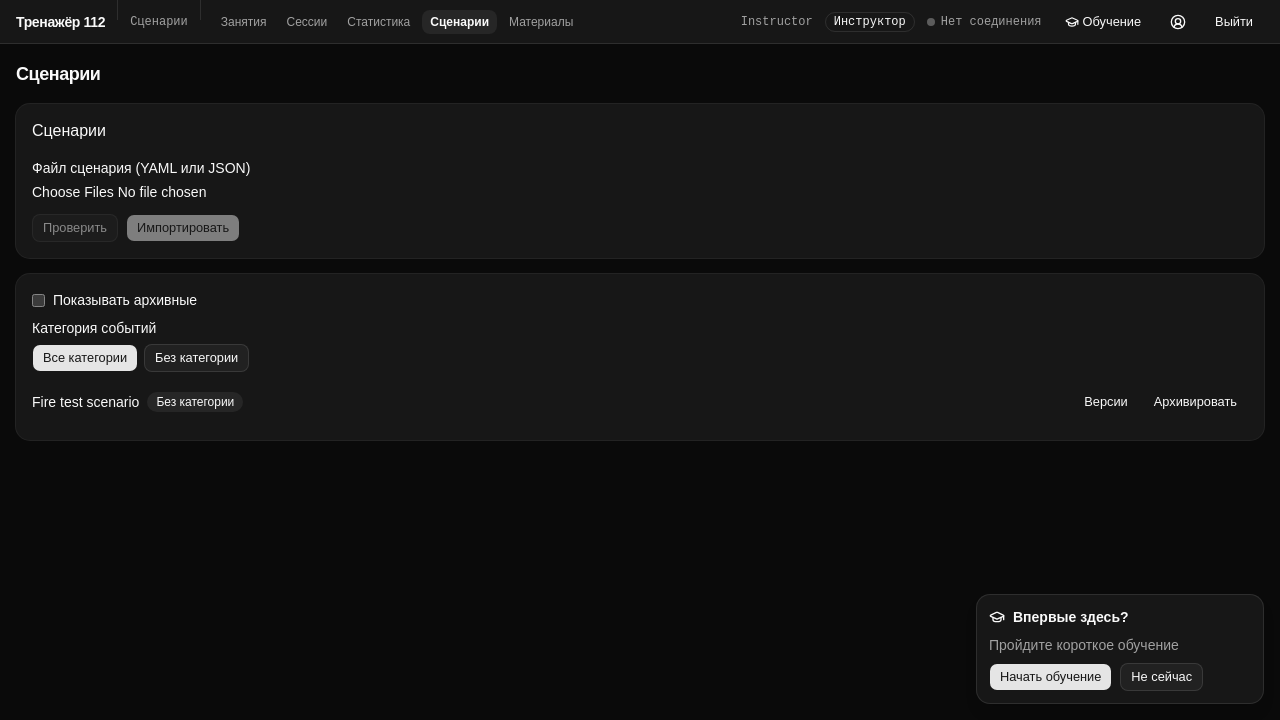
Scenario: ScenariosPage › the show-archived checkbox refetches with include_archived and shows the archived scenario
Expected: the text "Fire test scenario" is shown, [32,392,139,412]
Expected: the text "Archived scenario" is not shown
Click the checkbox labelled "Показывать архивные" at [38, 300], box [32,294,45,306]
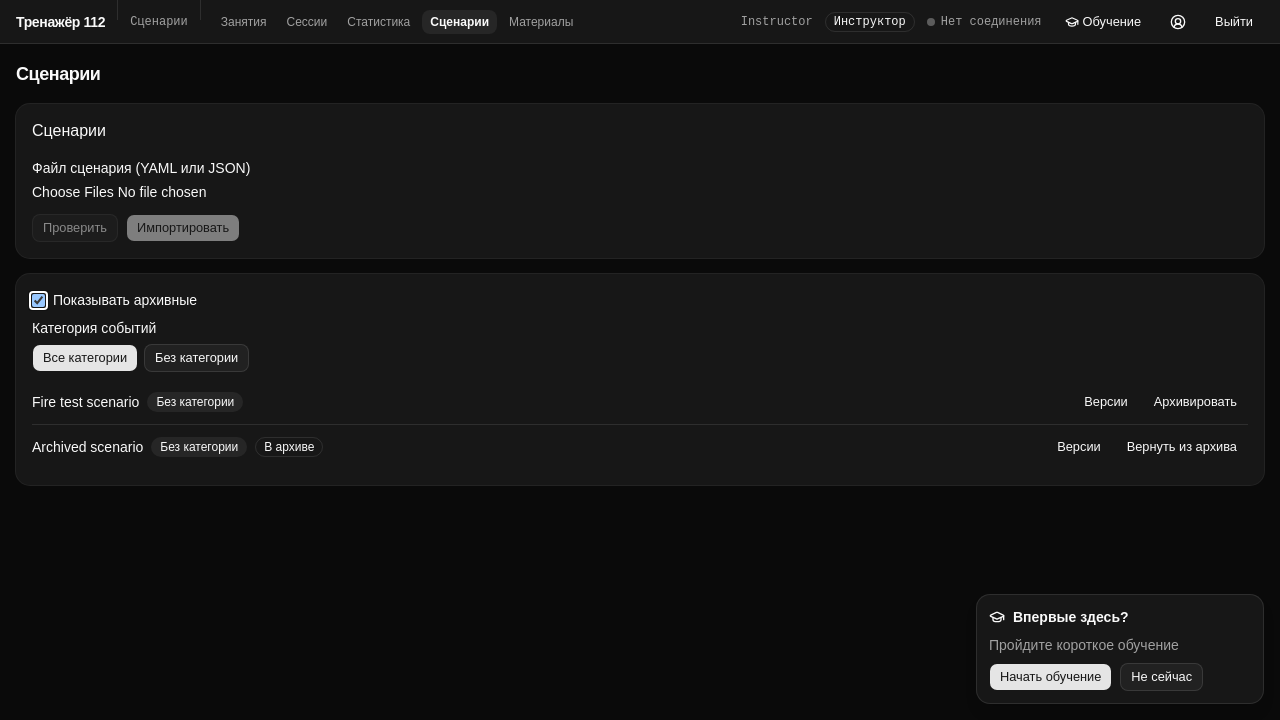
Expected: the text "Archived scenario" is shown, [32,437,143,457]
Expected: the text "В архиве" is shown, [255,437,323,457]
Expected: the button "Вернуть из архива" is shown, [1116,433,1248,461]
